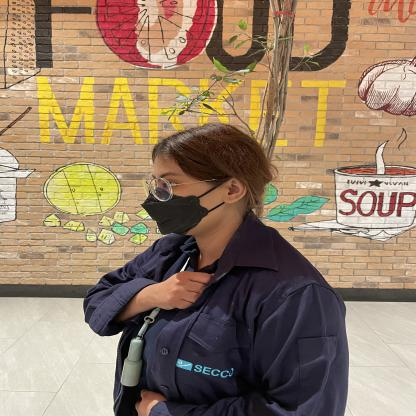Sadness: (108, 255, 233, 323)
